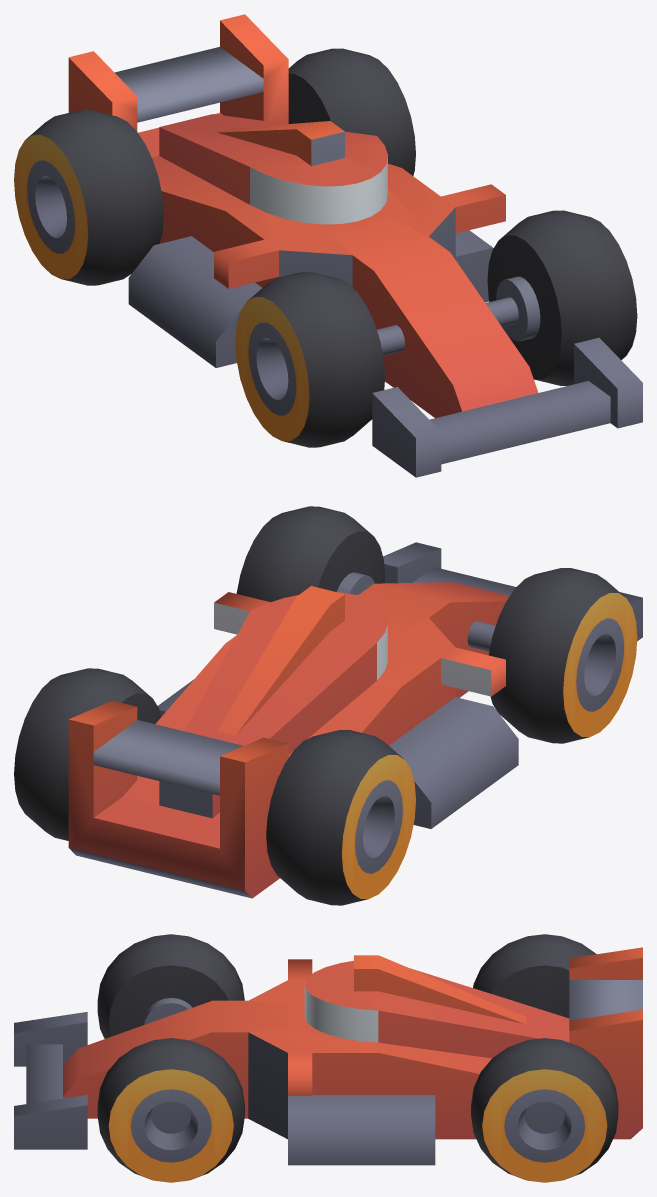
File: race.glb
3 views of the same model, one above another, from view 1: azimuth 30°, elevation 25°; view 2: azimuth 150°, elevation 25°; view 3: azimuth 270°, elevation 25° (orthographic). The views are drawn at different scales.
Visible parts, largest first — view 1: body, wheel-back-right, wheel-front-right, wheel-front-left, wheel-back-left; view 2: body, wheel-back-right, wheel-front-right, wheel-back-left, wheel-front-left; view 3: body, wheel-back-left, wheel-front-left, wheel-front-right, wheel-back-right.
Boxes of the visible parts, left/top/right/bottom form: body: left=68, top=14, right=642, bottom=477; wheel-back-right: left=14, top=110, right=163, bottom=285; wheel-front-right: left=235, top=272, right=385, bottom=447; wheel-front-left: left=487, top=210, right=637, bottom=385; wheel-back-left: left=288, top=48, right=415, bottom=175; body: left=68, top=542, right=642, bottom=898; wheel-back-right: left=266, top=730, right=415, bottom=905; wheel-front-right: left=489, top=568, right=637, bottom=743; wheel-back-left: left=14, top=668, right=161, bottom=840; wheel-front-left: left=236, top=506, right=385, bottom=602; body: left=14, top=947, right=642, bottom=1165; wheel-back-left: left=471, top=1038, right=618, bottom=1182; wheel-front-left: left=97, top=1038, right=244, bottom=1182; wheel-front-right: left=97, top=934, right=244, bottom=1038; wheel-back-right: left=473, top=934, right=596, bottom=1018.
Size of the model in its own units: 0.5079 by 0.2862 by 1.
1 material, 1 textured.
